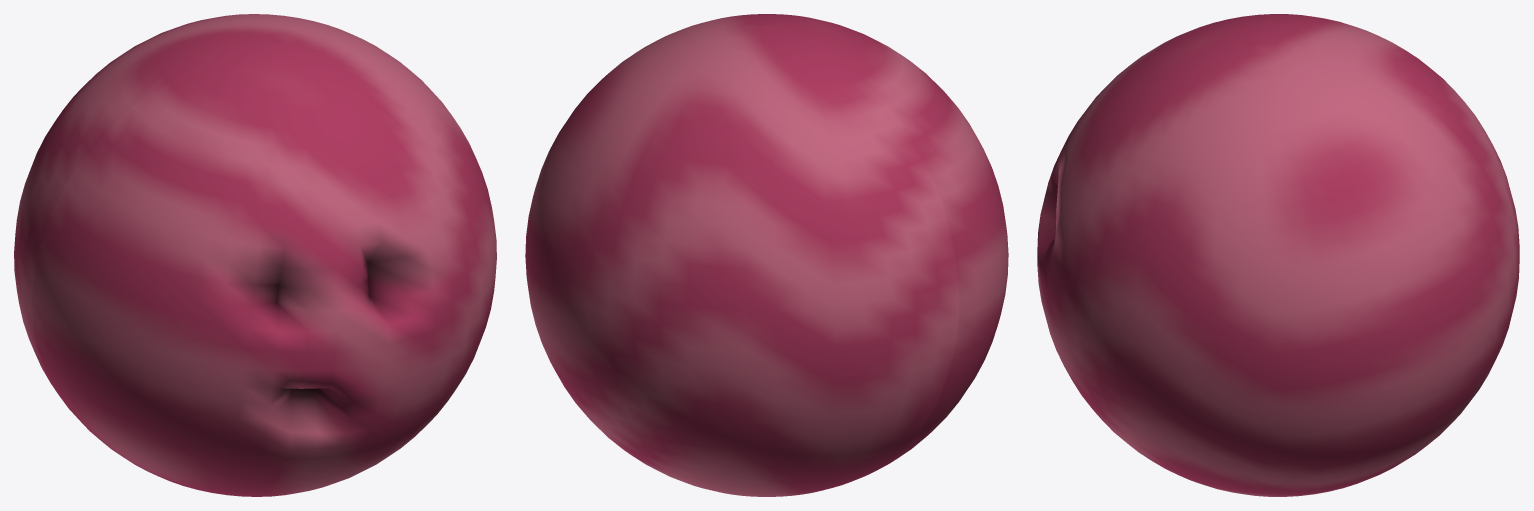
The model's file is bowlingpink.glb.
The picture shows the model from 3 angles, left to right: view 1: azimuth 30°, elevation 25°; view 2: azimuth 150°, elevation 25°; view 3: azimuth 270°, elevation 25°; orthographic projection.
Visible parts, largest first — view 1: bowlingpink; view 2: bowlingpink; view 3: bowlingpink.
Boxes of the visible parts, x1,y1,x2,y2 form: bowlingpink: (14,14,496,496); bowlingpink: (525,14,1008,496); bowlingpink: (1037,14,1519,496).
Bounding box in the file's own units: 0.9578 × 0.9574 × 0.9562.
